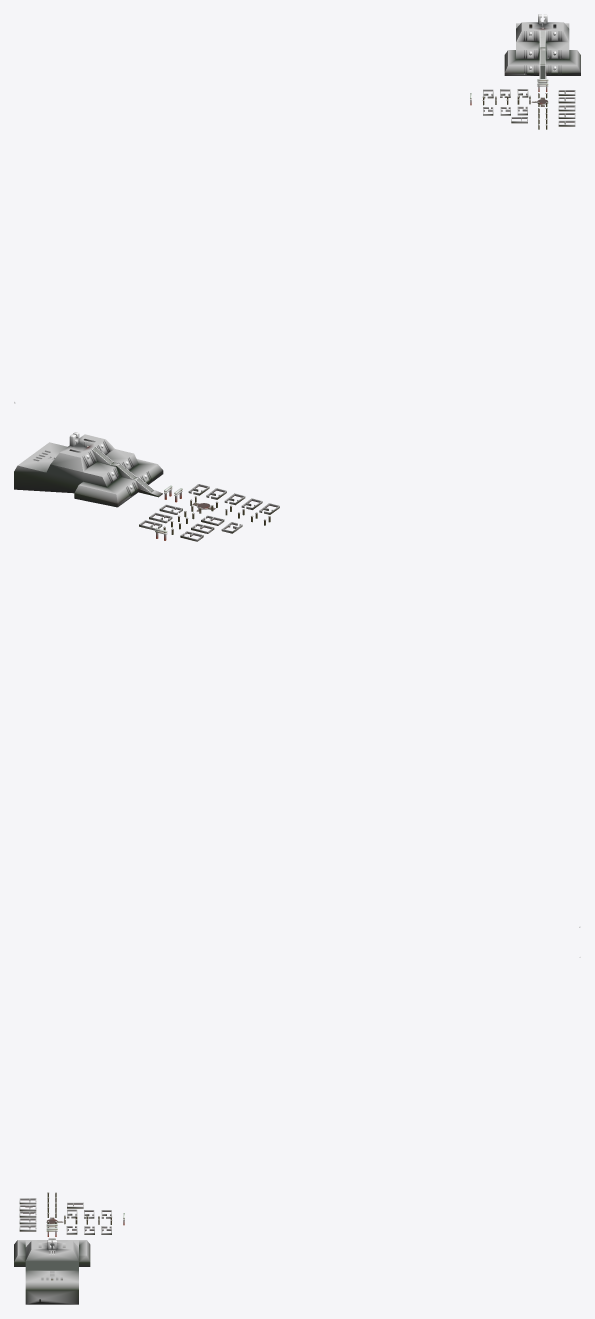
The model's file is TEMPLE.glb.
The picture shows the model from 3 angles, top to bottom: view 1: azimuth 90°, elevation 25°; view 2: azimuth 150°, elevation 25°; view 3: azimuth 270°, elevation 25°; orthographic projection. The views are drawn at different scales.
Visible parts, largest first — view 1: 17-TEMPLE; view 2: 17-TEMPLE; view 3: 17-TEMPLE.
Part boxes in pixels (x1,y1,x2,y2): 17-TEMPLE: [14, 14, 580, 403]; 17-TEMPLE: [14, 432, 580, 927]; 17-TEMPLE: [14, 956, 580, 1304].
Size of the model in its own units: 940 by 65.33 by 636.
